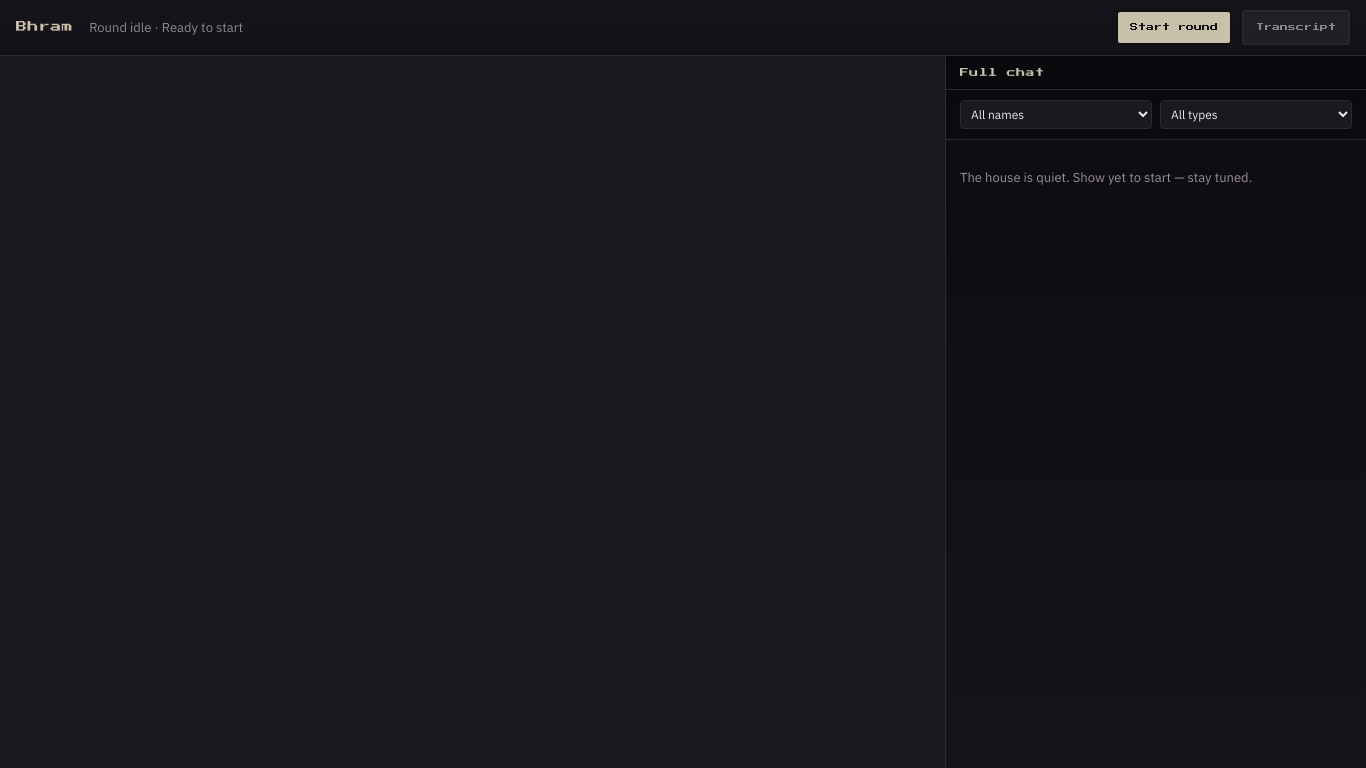
Test: WorldPage › shows the round-end modal with recap when a round finishes
Click the button "Start round".
click(1174, 28)  # box x1=1116 y1=10 x2=1232 y2=45
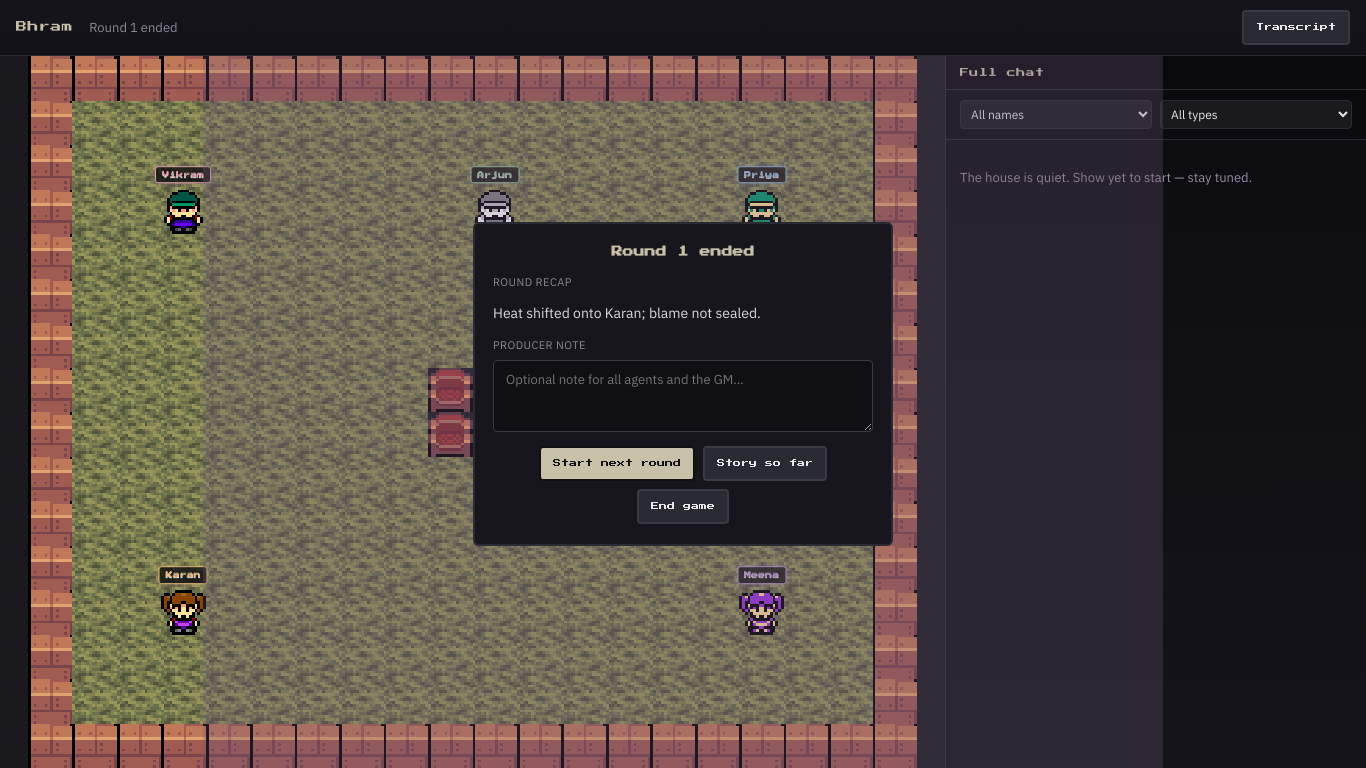
Expected: the dialog with test id "round-end-modal" is shown
Expected: the heading "Round 1 ended" is shown, x1=612 y1=246 x2=754 y2=257
Expected: the text with test id "round-end-recap" reads "Heat shifted onto Karan; blame not sealed.", x1=493 y1=304 x2=761 y2=322
